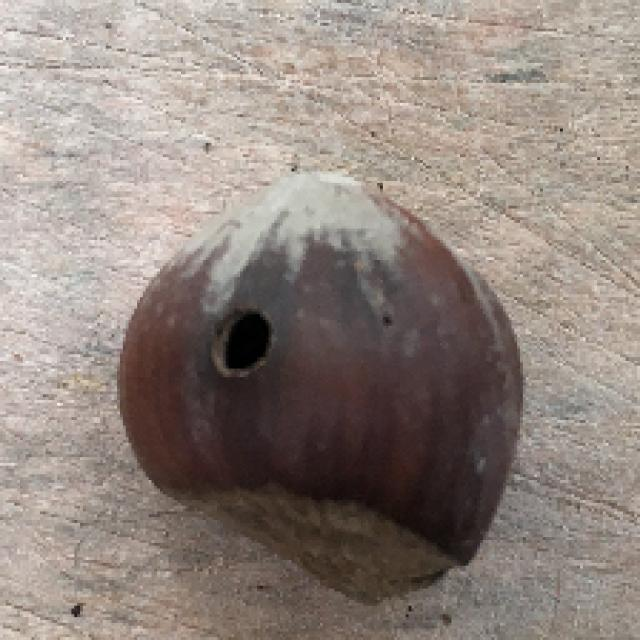damagedHazelnut: (119, 159, 532, 606)
